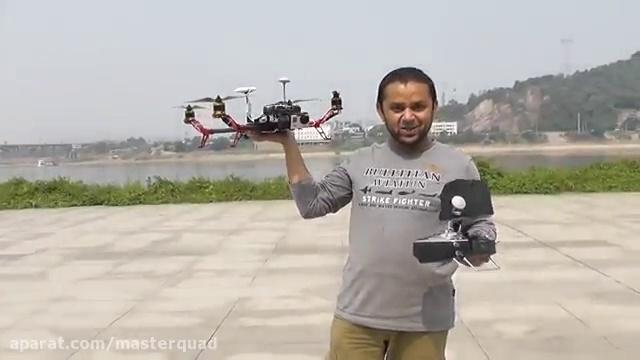drone: (171, 74, 347, 150)
